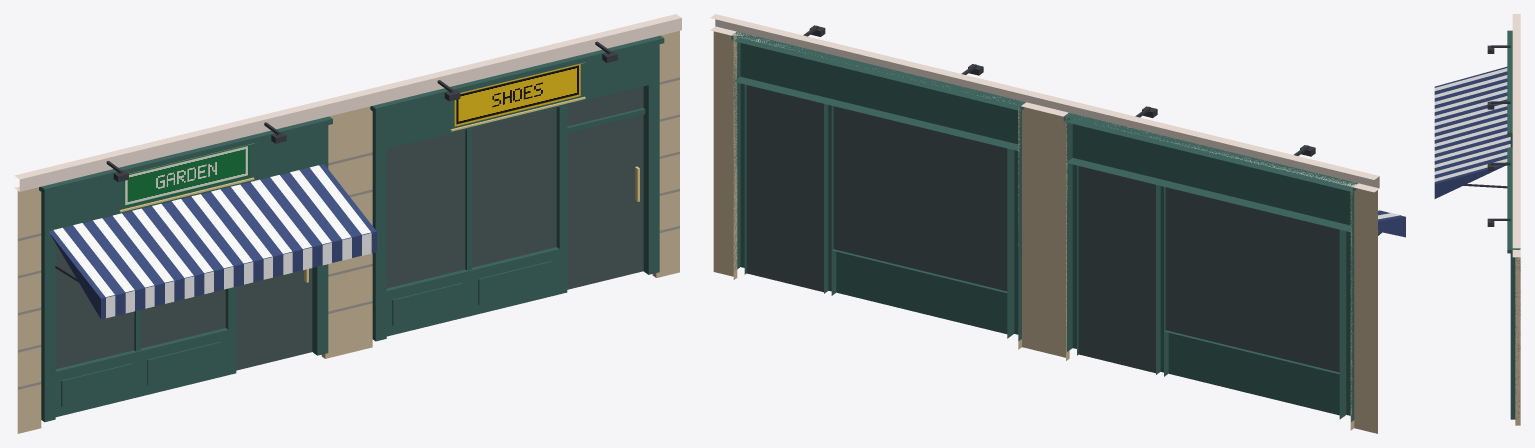
File: base-w4_close.fbx
The picture shows the model from 3 angles, left to right: view 1: azimuth 30°, elevation 25°; view 2: azimuth 150°, elevation 25°; view 3: azimuth 270°, elevation 25°; orthographic projection. The views are drawn at different scales.
Visible parts, largest first — view 1: a2006/500/base-w4_close; view 2: a2006/500/base-w4_close; view 3: a2006/500/base-w4_close.
Boxes of the visible parts, <box> form: a2006/500/base-w4_close: <box>14,14,681,433</box>; a2006/500/base-w4_close: <box>710,14,1405,433</box>; a2006/500/base-w4_close: <box>1434,14,1520,425</box>.
Bounding box in the file's own units: 8.4 × 3.1 × 1.3.
